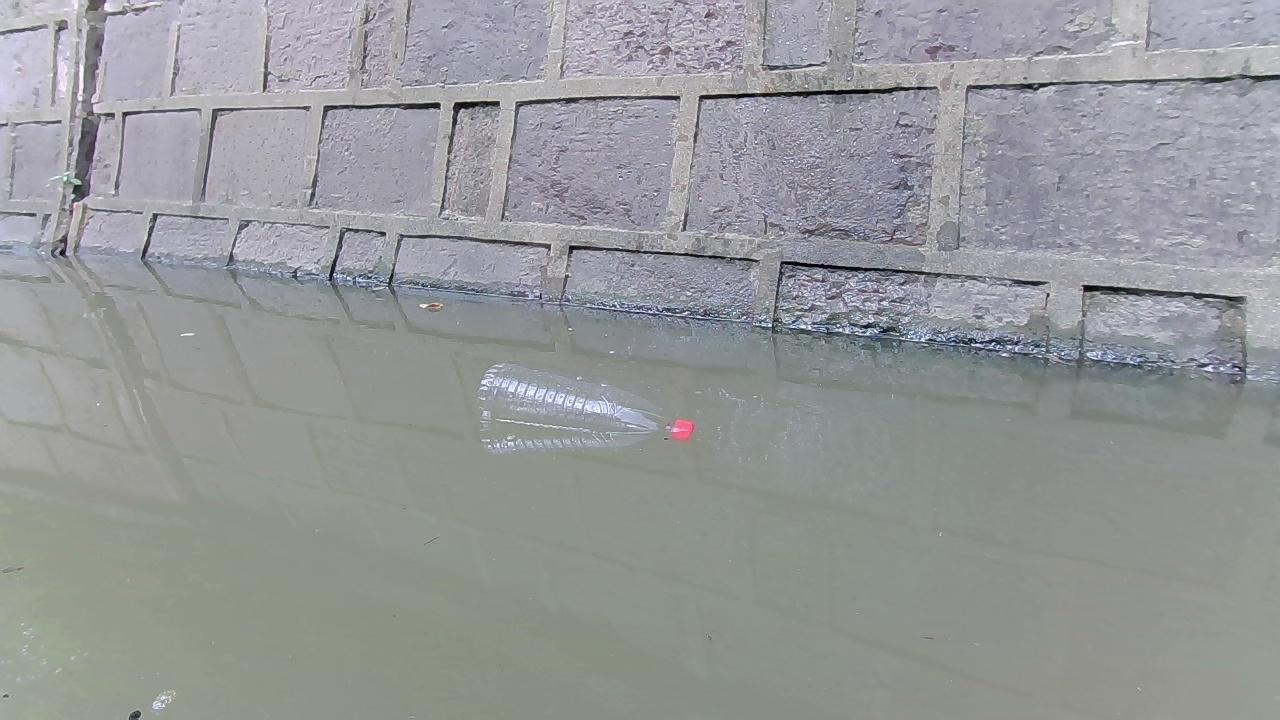bottle: (473, 356, 698, 444)
